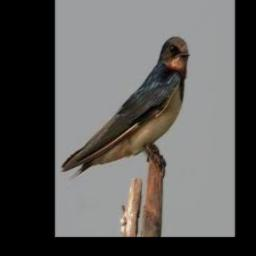Swallow: (61, 38, 189, 176)
